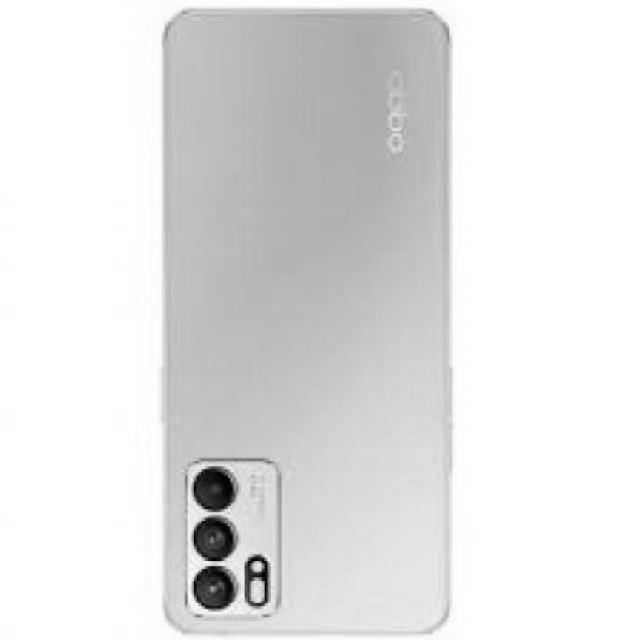fake: (162, 6, 452, 637)
